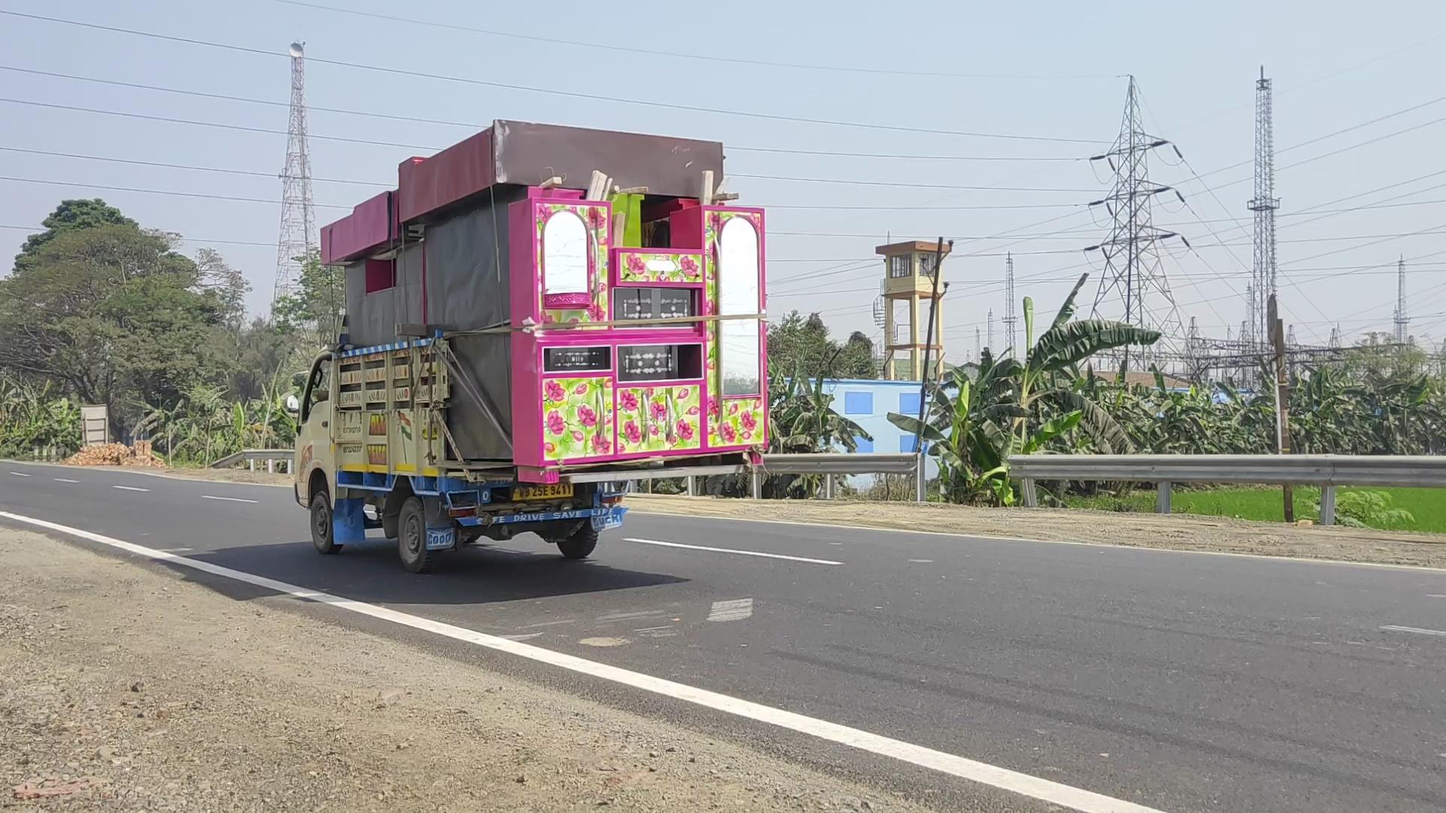van: (286, 118, 769, 572)
